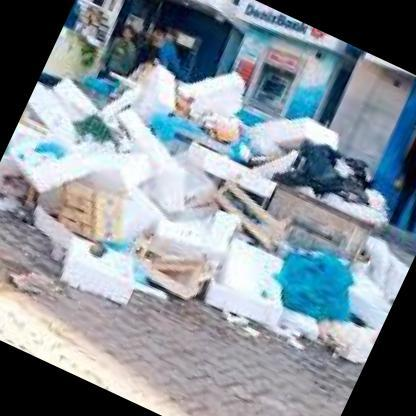Garbage: (138, 178, 398, 389), (0, 73, 207, 321), (178, 63, 414, 226), (102, 54, 198, 166), (172, 138, 280, 207)
